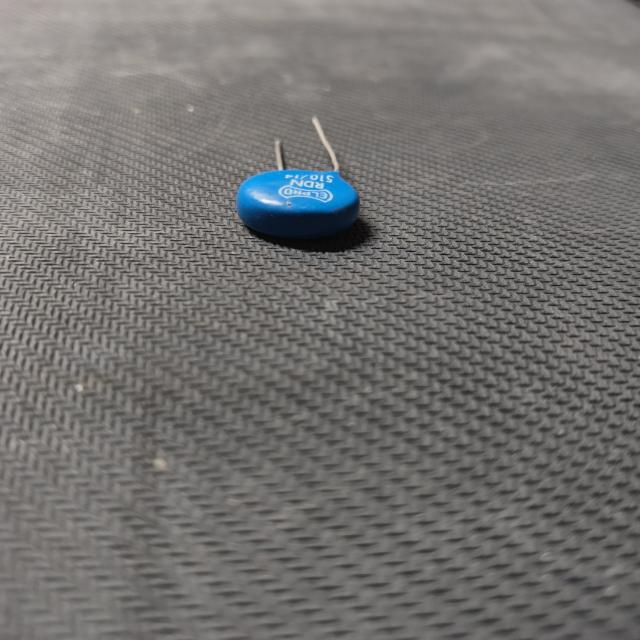capacitor: (229, 111, 374, 252)
